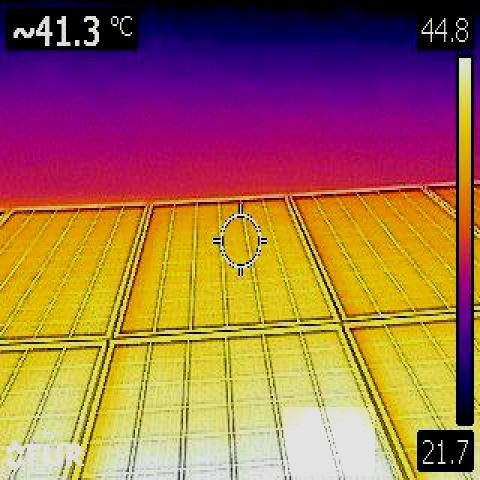fault: (283, 407, 375, 476)
